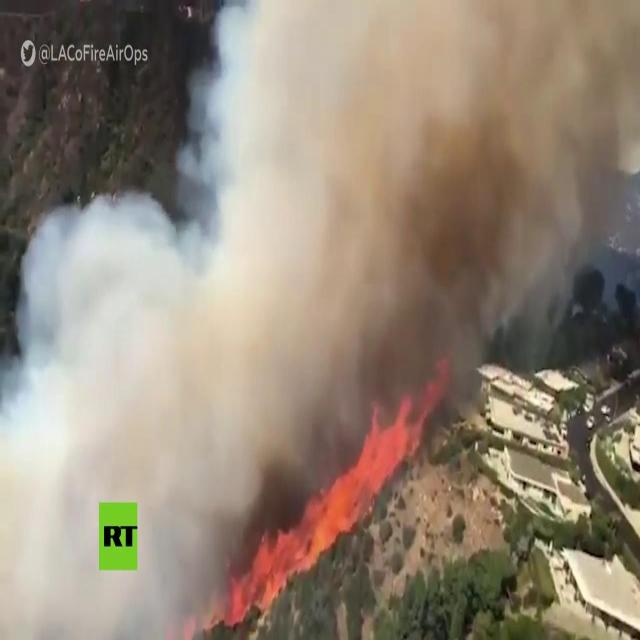Fire: (206, 402, 428, 626)
